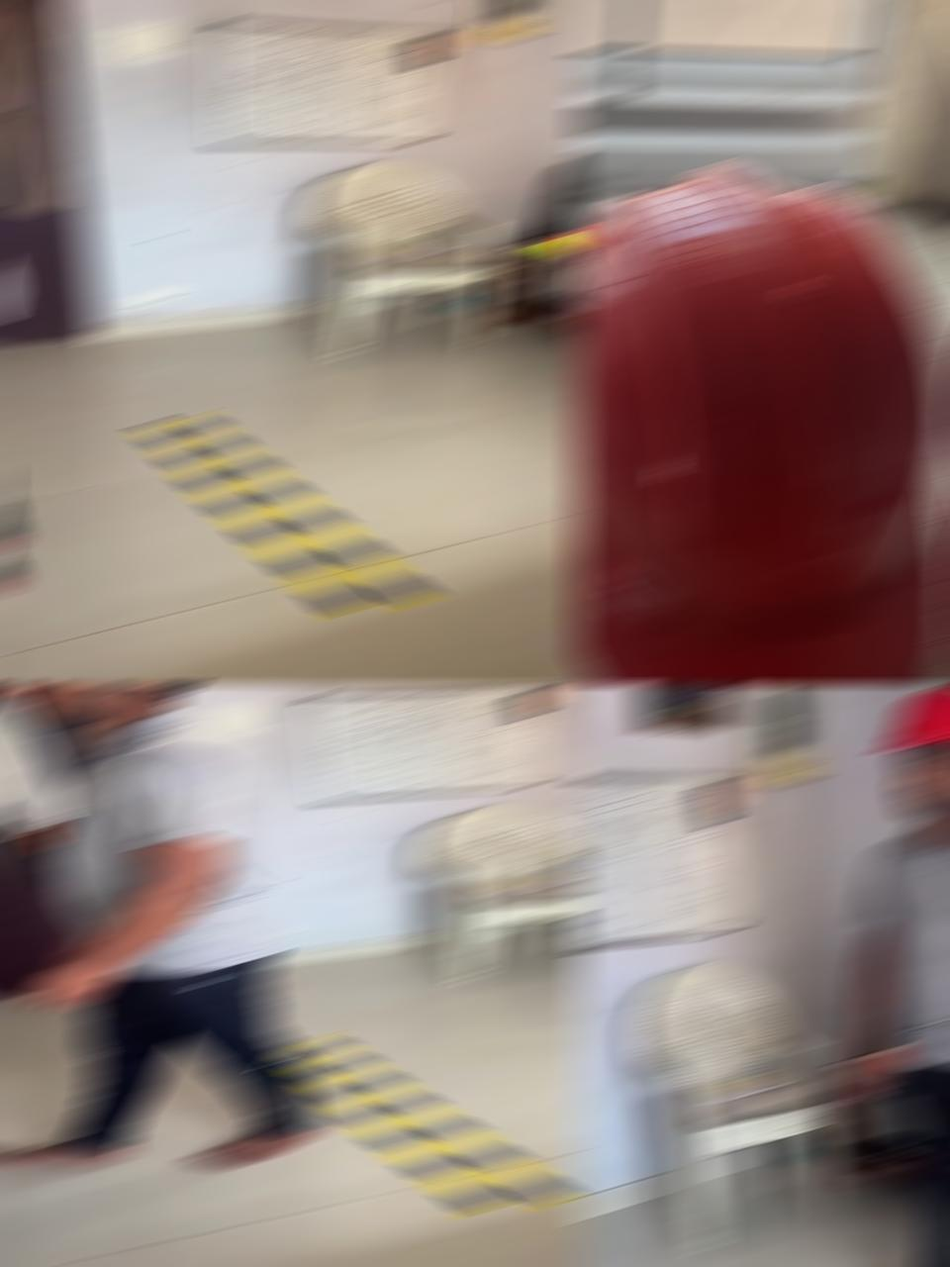BorderLine: (131, 414, 439, 613), (275, 1037, 581, 1211)
Helmet: (571, 163, 950, 682), (874, 686, 950, 747)
No_Vest: (852, 809, 950, 1065)
Person: (0, 686, 323, 1165), (844, 686, 950, 1265)
